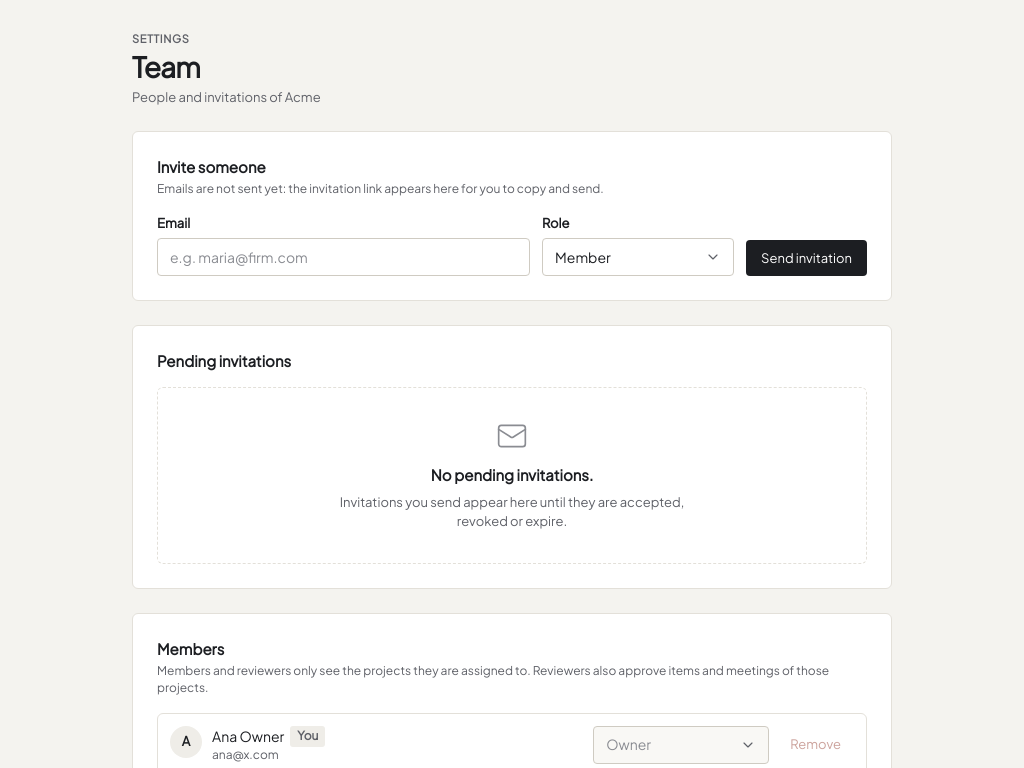
Scenario: TeamSettings (Story 12.5) › an admin cannot grant the owner role
The width and height of the screenshot is (1024, 768).
Click the dropdown named "Role" at [638, 257], box top-left (542, 238), bottom-right (734, 276)
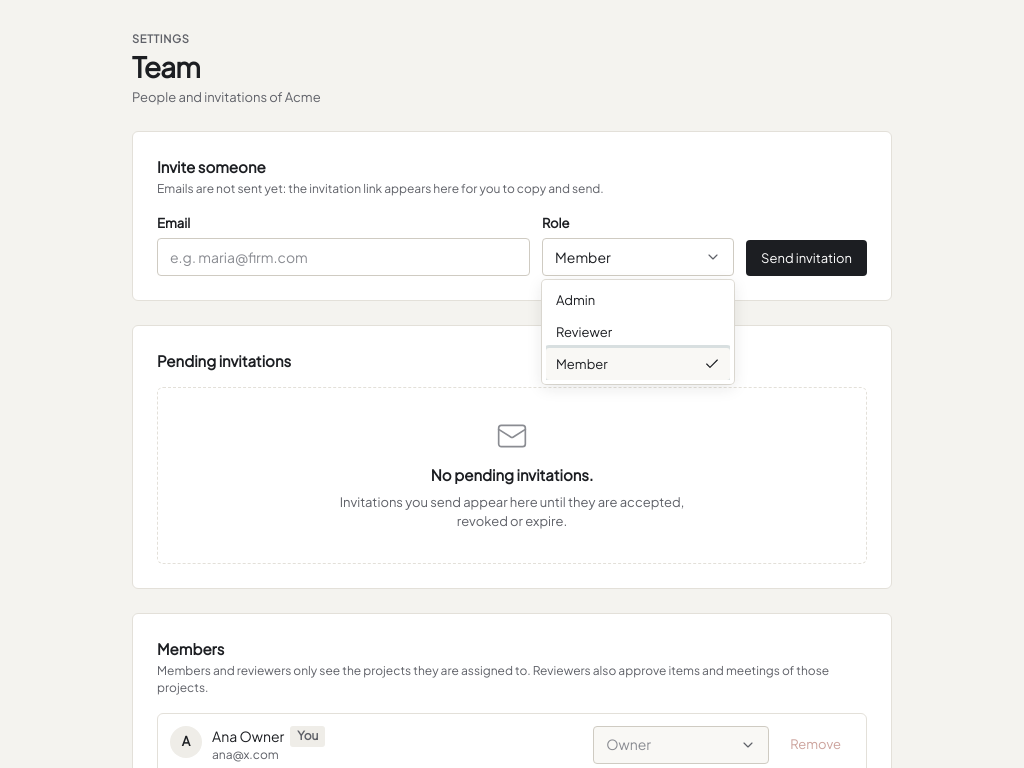
Expected: the option "Admin" is shown, top-left (556, 292), bottom-right (595, 308)
